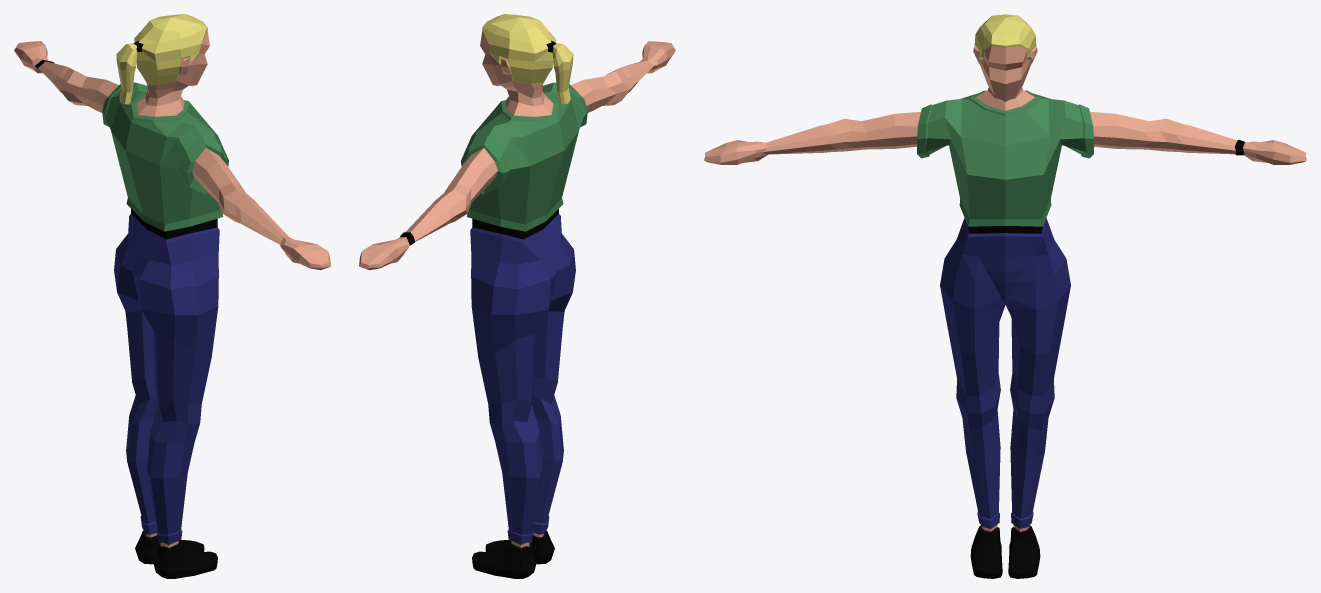
The model's file is PlayerNoBones.fbx.
3 renders of one model, left to right at view 1: azimuth 30°, elevation 25°; view 2: azimuth 150°, elevation 25°; view 3: azimuth 270°, elevation 25°, orthographic.
Parts seen in each view (by area): view 1: Body; view 2: Body; view 3: Body.
Part boxes in pixels (box(x1,y1,x2,y2)): Body: box(14, 14, 330, 578); Body: box(359, 14, 675, 578); Body: box(704, 14, 1306, 578).
Size of the model in its own units: 53.11 by 277 by 279.
